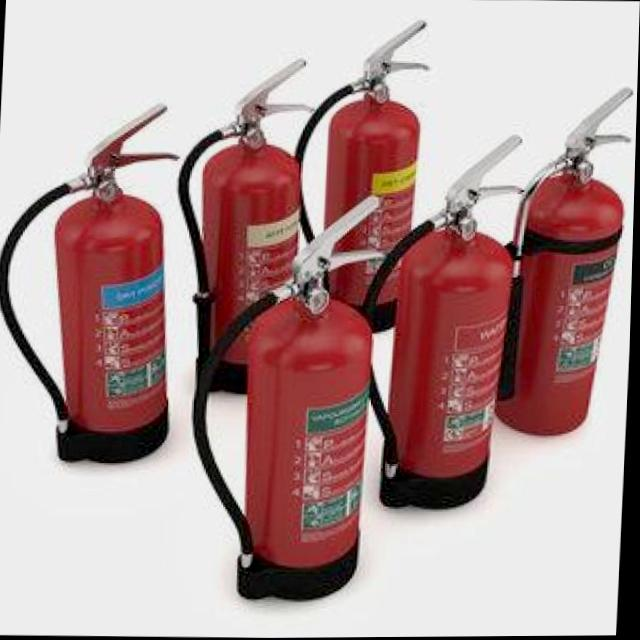FireExtinguisher: (179, 185, 388, 605), (0, 89, 193, 471), (345, 124, 532, 512), (164, 51, 328, 401), (480, 80, 636, 442), (278, 10, 437, 342)
